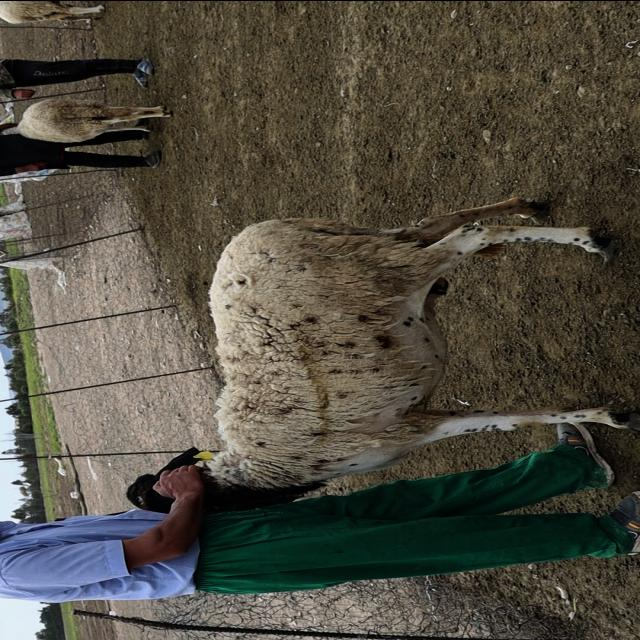Score_5: (200, 197, 639, 513)
